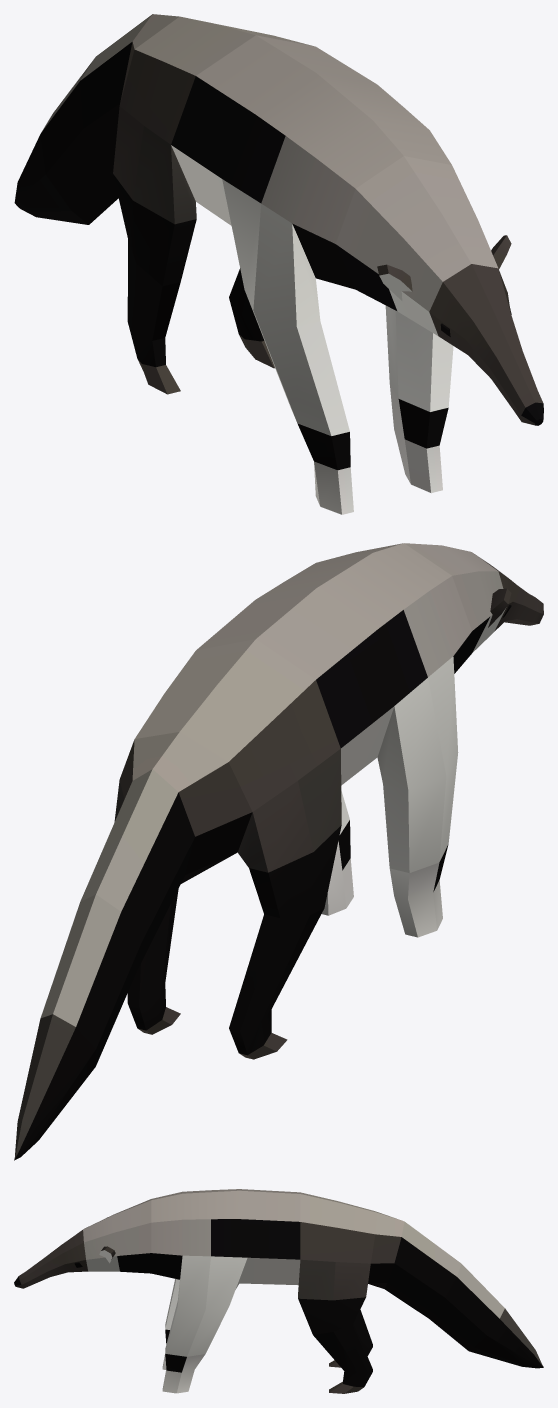
File: prop_pz_anteater.glb
3 renders of one model, top to bottom at view 1: azimuth 30°, elevation 25°; view 2: azimuth 150°, elevation 25°; view 3: azimuth 270°, elevation 25°, orthographic. The views are drawn at different scales.
Visible parts, largest first — view 1: Geo_Anteater; view 2: Geo_Anteater; view 3: Geo_Anteater.
Boxes of the visible parts, bbox=[...] form: Geo_Anteater: bbox=[14, 14, 543, 514]; Geo_Anteater: bbox=[14, 543, 543, 1160]; Geo_Anteater: bbox=[14, 1189, 543, 1393].
Bounding box in the file's own units: 32.08 × 59.35 × 151.
Materials: 1 (1 with a texture image).
